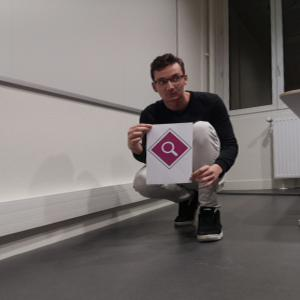search: (148, 129, 191, 168)
